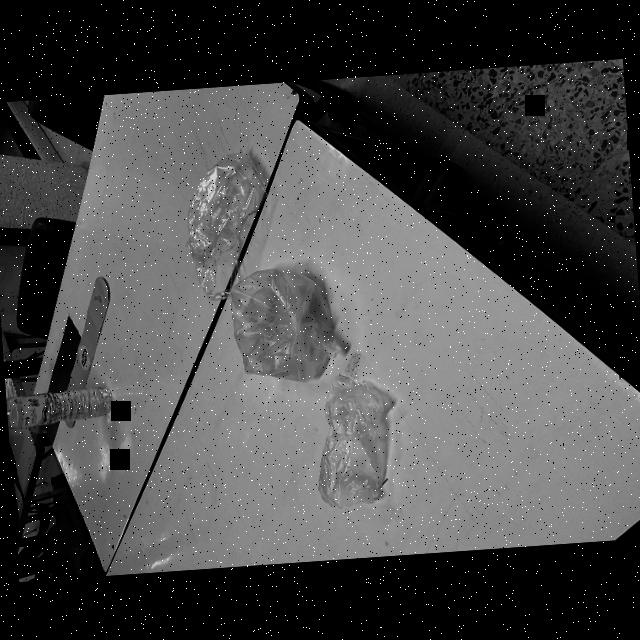plastic_bag: (222, 246, 346, 390), (170, 143, 268, 304)
scrap_plastic: (299, 361, 398, 522)
